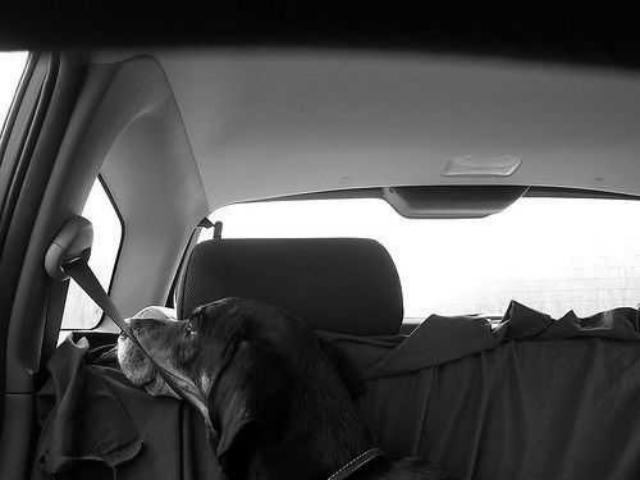Seatbelt: (36, 212, 208, 424)
